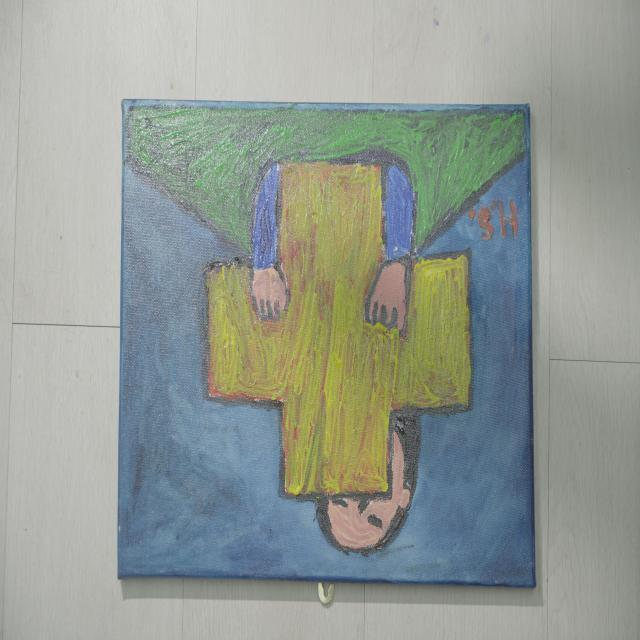painting: (118, 101, 535, 586)
